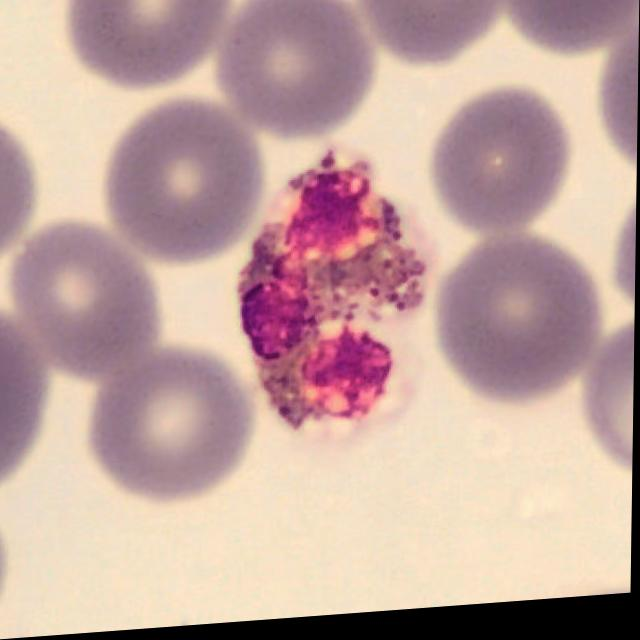Eosinofilo: (240, 152, 433, 446)
